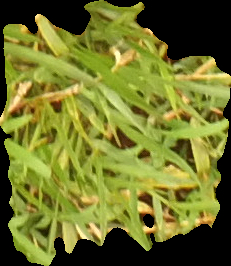grass: (1, 1, 230, 264)
